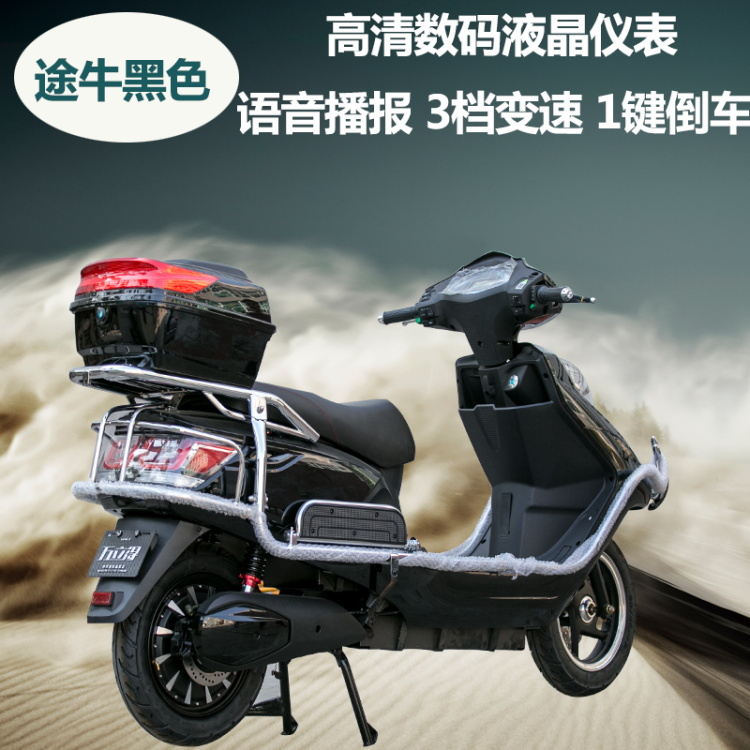电动车: (61, 231, 693, 749)
